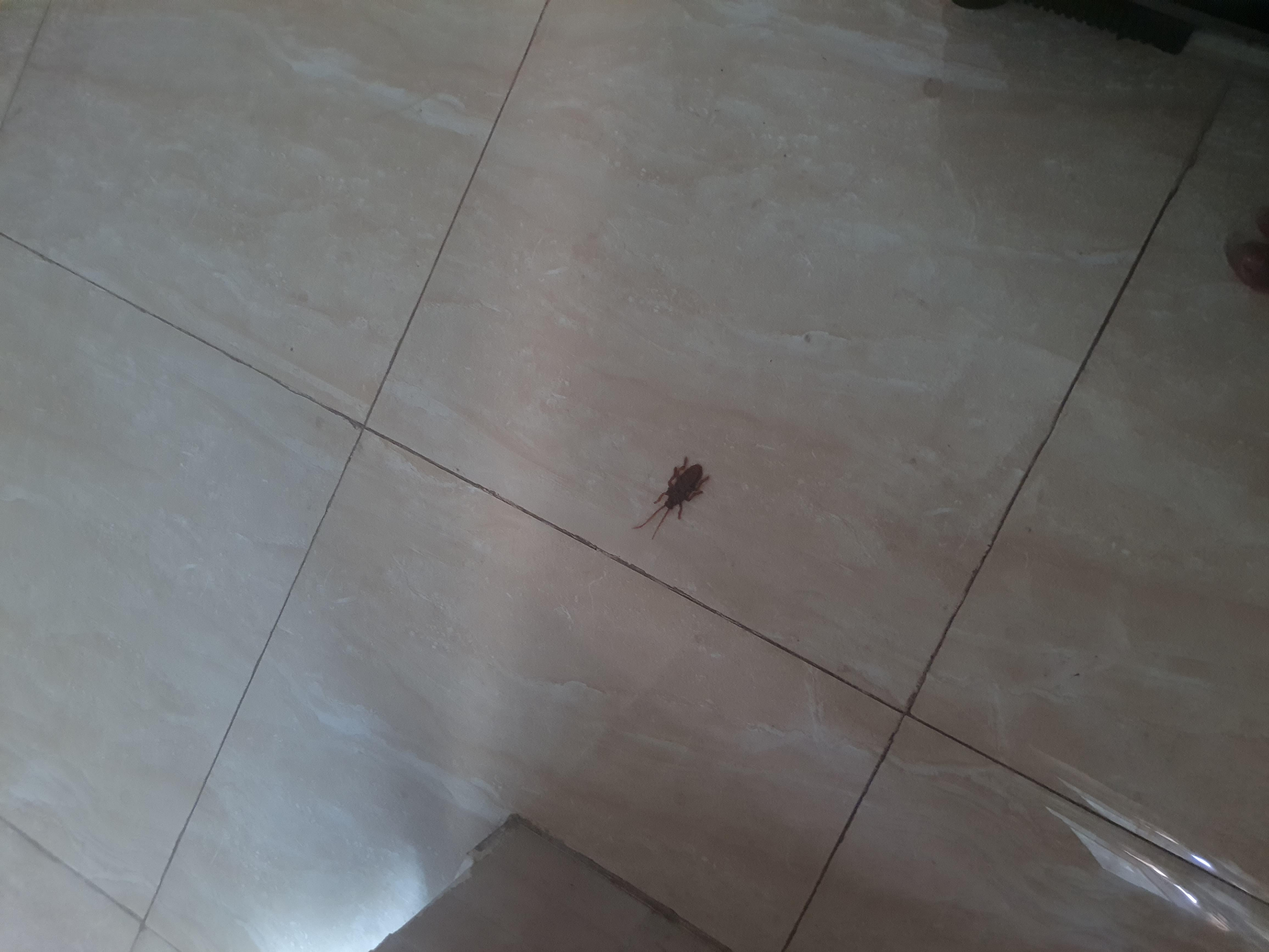cockroach: (543, 466, 676, 540)
